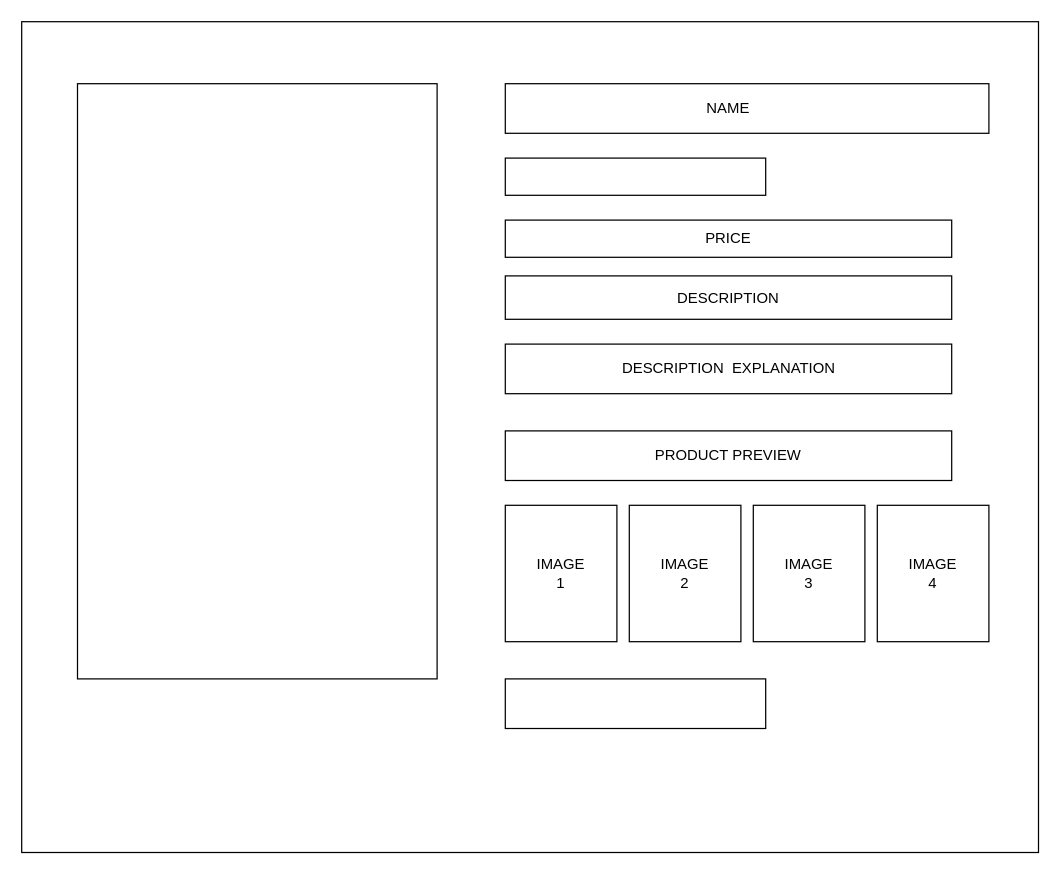
Some shapes in this 1060 by 874 pixel diagram are drawn without their labels. The centre of each missing label's shape, as x and y in pixels:
"ADD TO CART" goes at [635,703].
"BRAND NAME" goes at [635,176].
"IMAGE" goes at [256,380].
